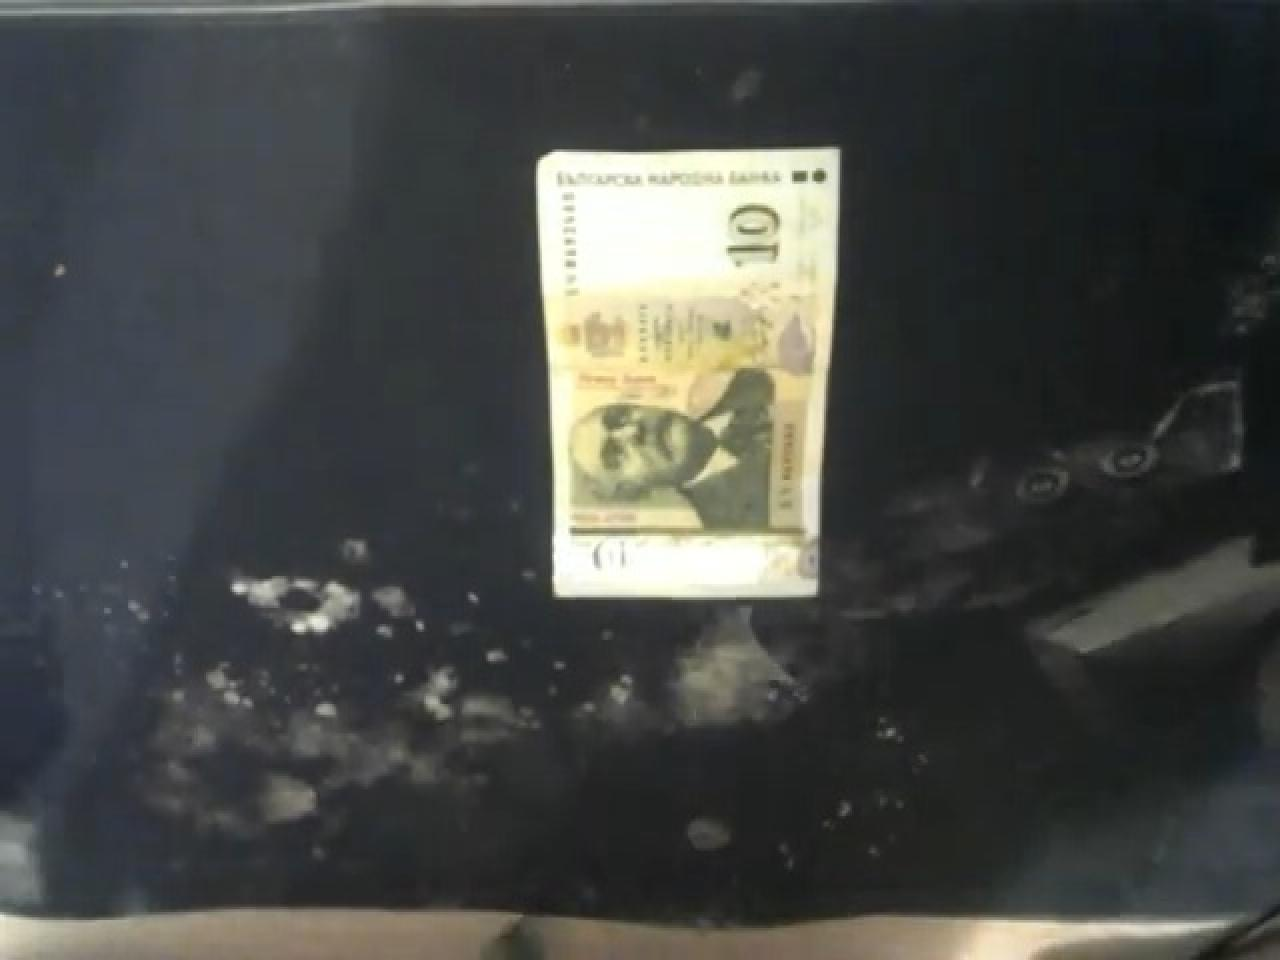10leva: (524, 139, 846, 600)
